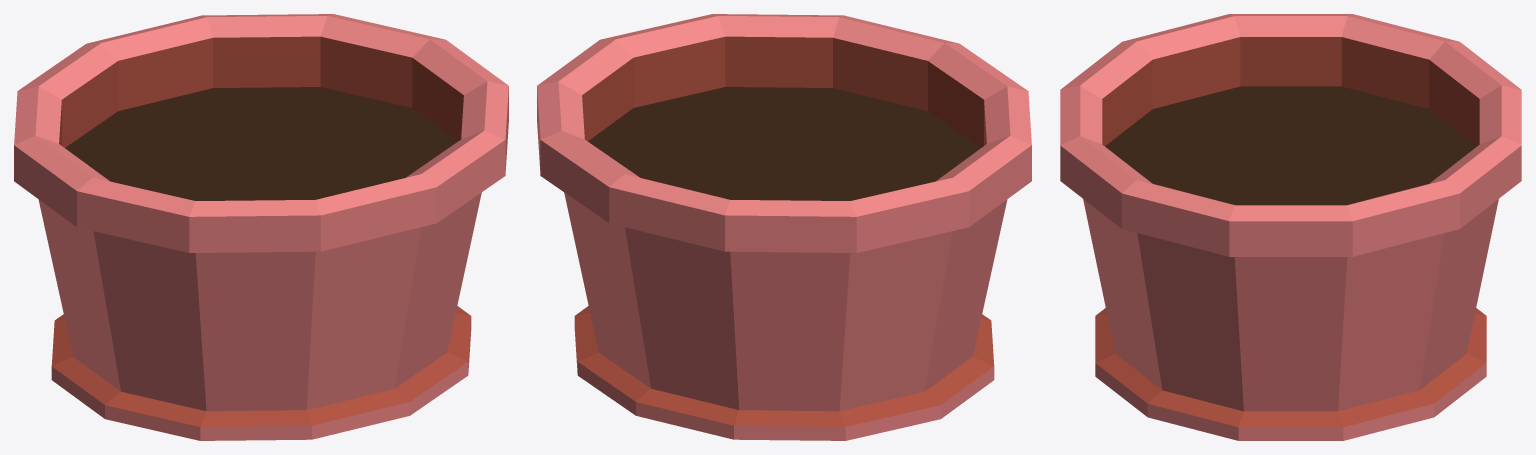
Rendered from TestModel.gltf.
3 renders of one model, left to right at view 1: azimuth 30°, elevation 25°; view 2: azimuth 150°, elevation 25°; view 3: azimuth 270°, elevation 25°, orthographic.
Parts seen in each view (by area): view 1: pot; view 2: pot; view 3: pot.
Boxes of the visible parts, left/top/right/bottom form: pot: left=14, top=14, right=508, bottom=440; pot: left=537, top=14, right=1031, bottom=440; pot: left=1060, top=14, right=1521, bottom=440.
Bounding box in the file's own units: 0.6354 × 0.3562 × 0.5979.
1 material, 1 textured.
